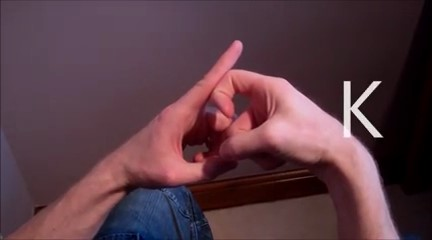K: (114, 30, 337, 190)
